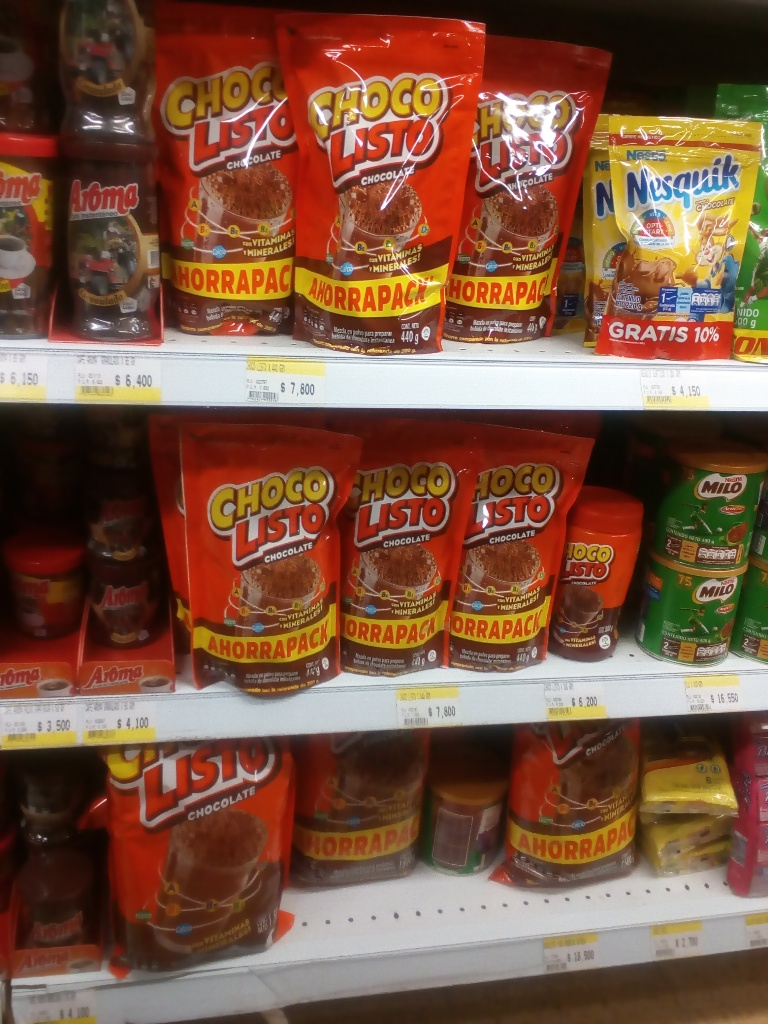COL0170103DYP44000: (273, 8, 479, 355)
COL0170203LAT40000: (632, 553, 752, 670)
